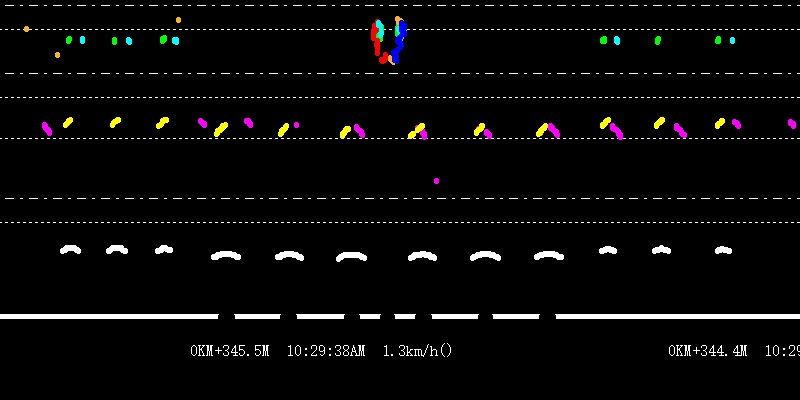J: (367, 3, 407, 65)
y_p: (210, 113, 570, 274)
